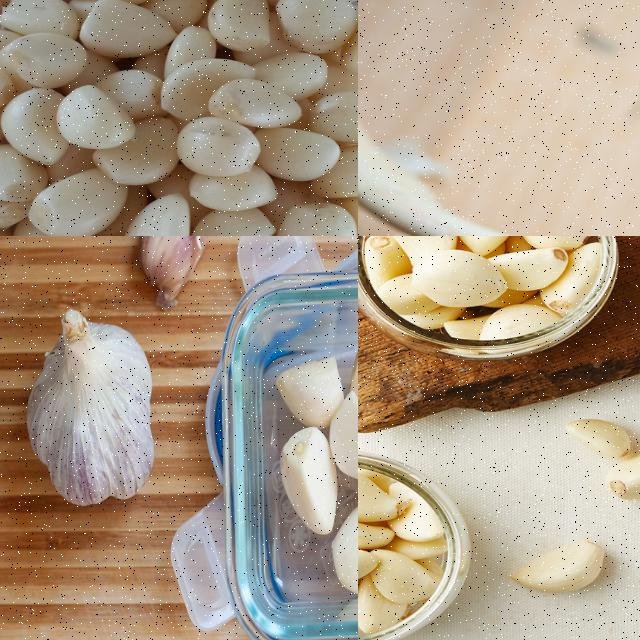garlic: (0, 0, 357, 235), (359, 236, 607, 347), (28, 307, 160, 509), (275, 346, 357, 598), (358, 470, 453, 637), (138, 236, 240, 304), (566, 414, 639, 503), (514, 538, 610, 598)
